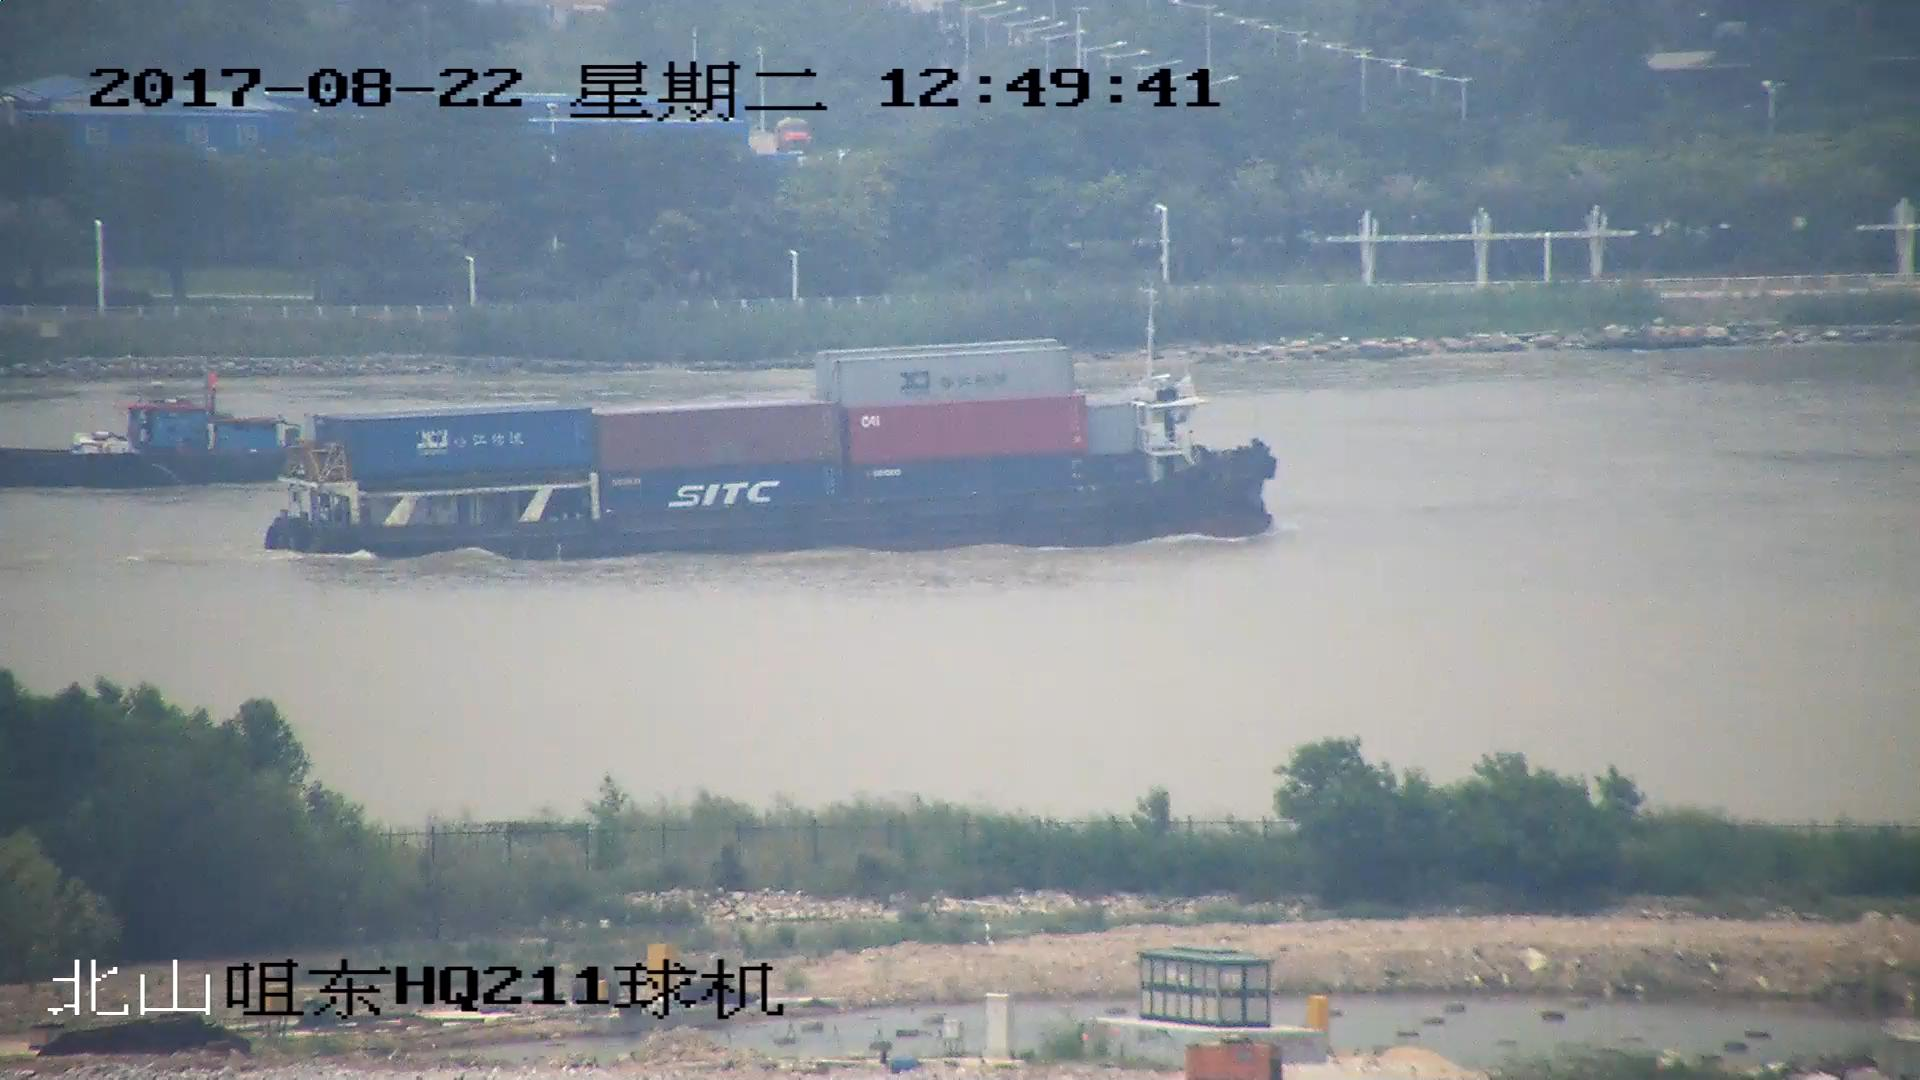container ship: (261, 337, 1284, 559)
fishing boat: (1, 378, 291, 486)
